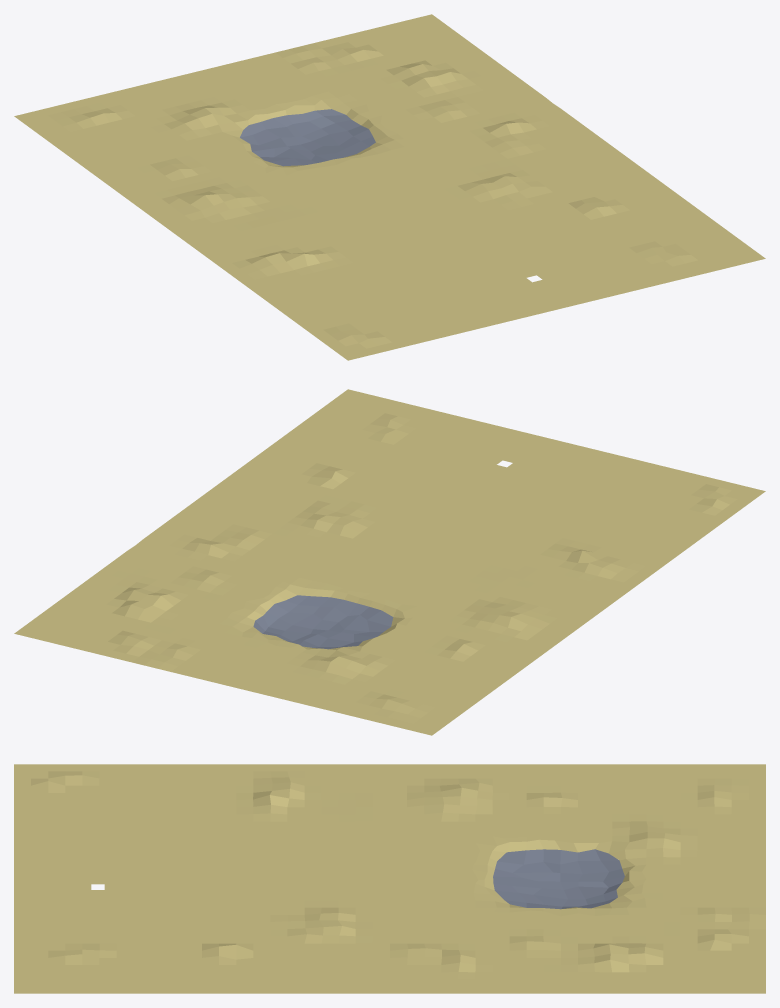
Rendered from Land_low.fbx.
3 views of the same model, one above another, from view 1: azimuth 30°, elevation 25°; view 2: azimuth 150°, elevation 25°; view 3: azimuth 270°, elevation 25° (orthographic). The views are drawn at different scales.
Visible parts, largest first — view 1: Land_low; view 2: Land_low; view 3: Land_low.
Part boxes in pixels (box(x1,y1,x2,y2)): Land_low: box(14, 14, 765, 360); Land_low: box(14, 389, 765, 735); Land_low: box(14, 764, 765, 993).
Bounding box in the file's own units: 80 × 3.07 × 111.
